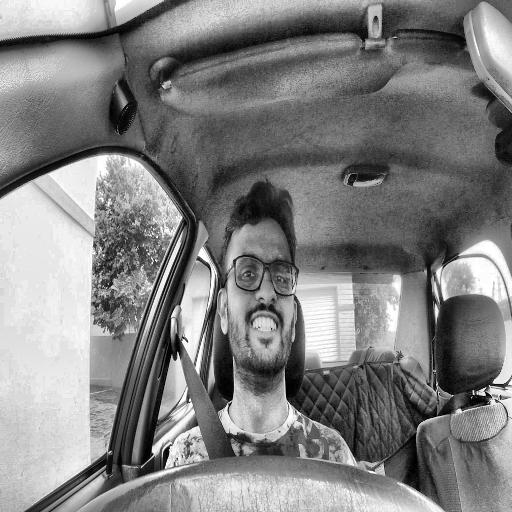awake: (218, 182, 299, 388)
